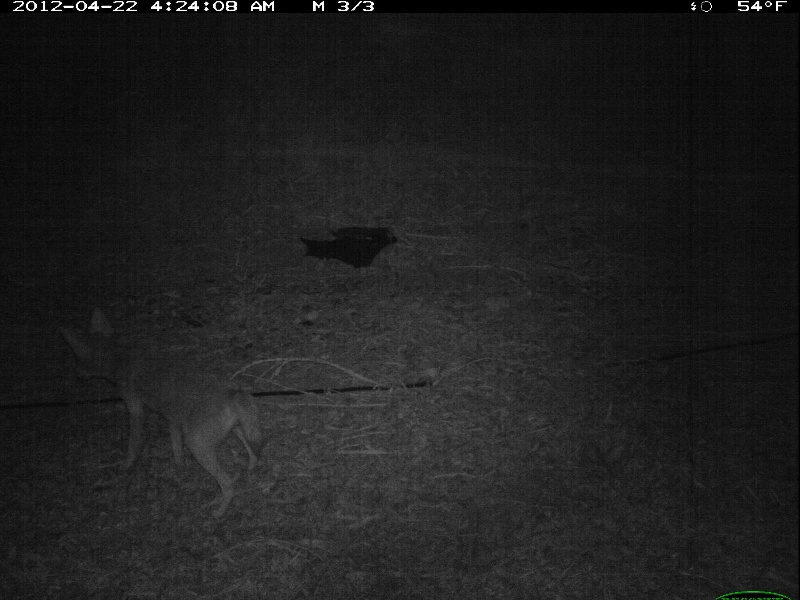coyote: (63, 308, 268, 516)
